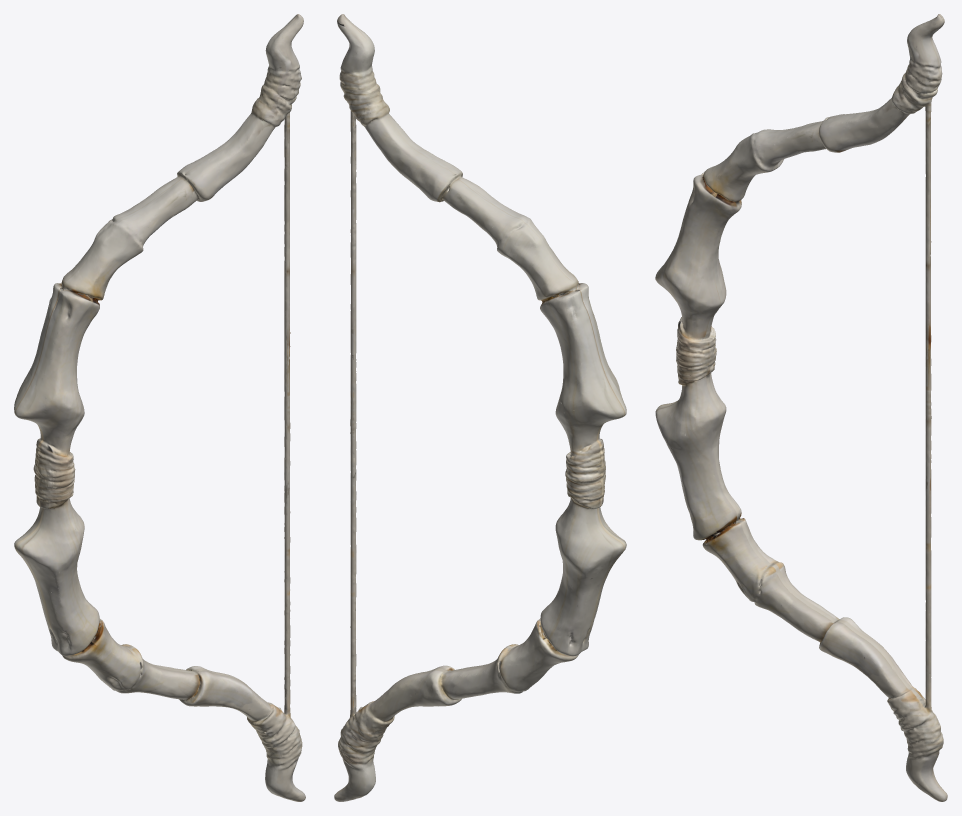
Rendered from Bone_Bow_in_the_Deser_1030145059_texture.fbx.
3 views of the same model, side by side, from view 1: azimuth 30°, elevation 25°; view 2: azimuth 150°, elevation 25°; view 3: azimuth 330°, elevation 25° (orthographic).
Visible parts, largest first — view 1: input; view 2: input; view 3: input.
Part boxes in pixels (x1,y1,x2,y2): input: [14, 14, 305, 801]; input: [334, 14, 626, 801]; input: [655, 14, 947, 801].
Size of the model in its own units: 73.86 by 192 by 14.44.
1 material, 1 textured.
